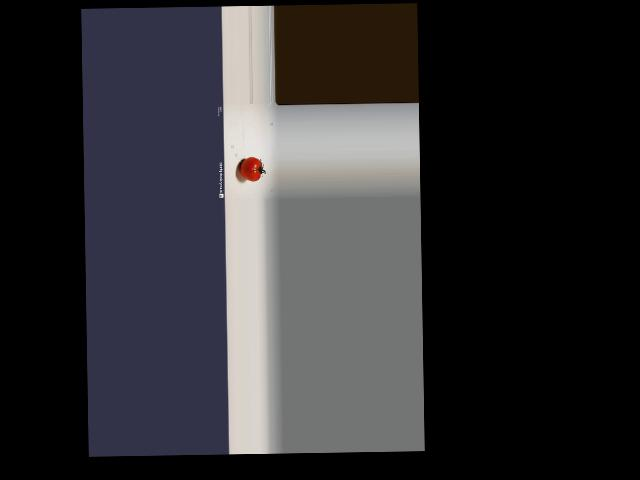tomato: (239, 156, 261, 181)
